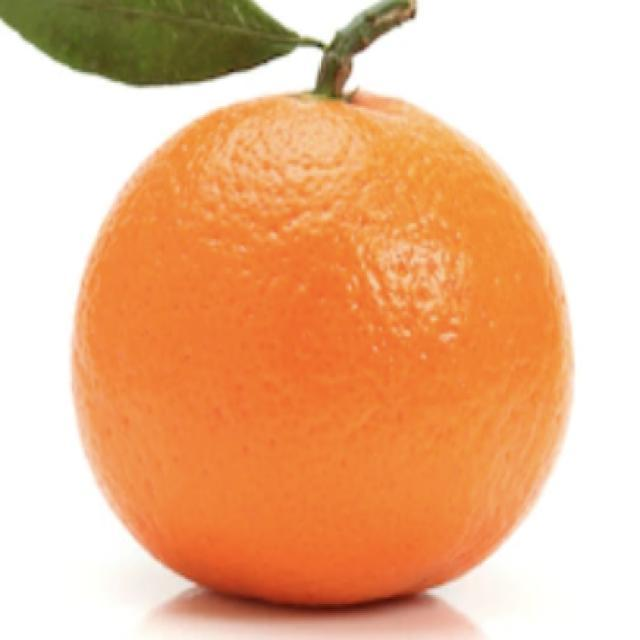Orange: (69, 85, 575, 608)
